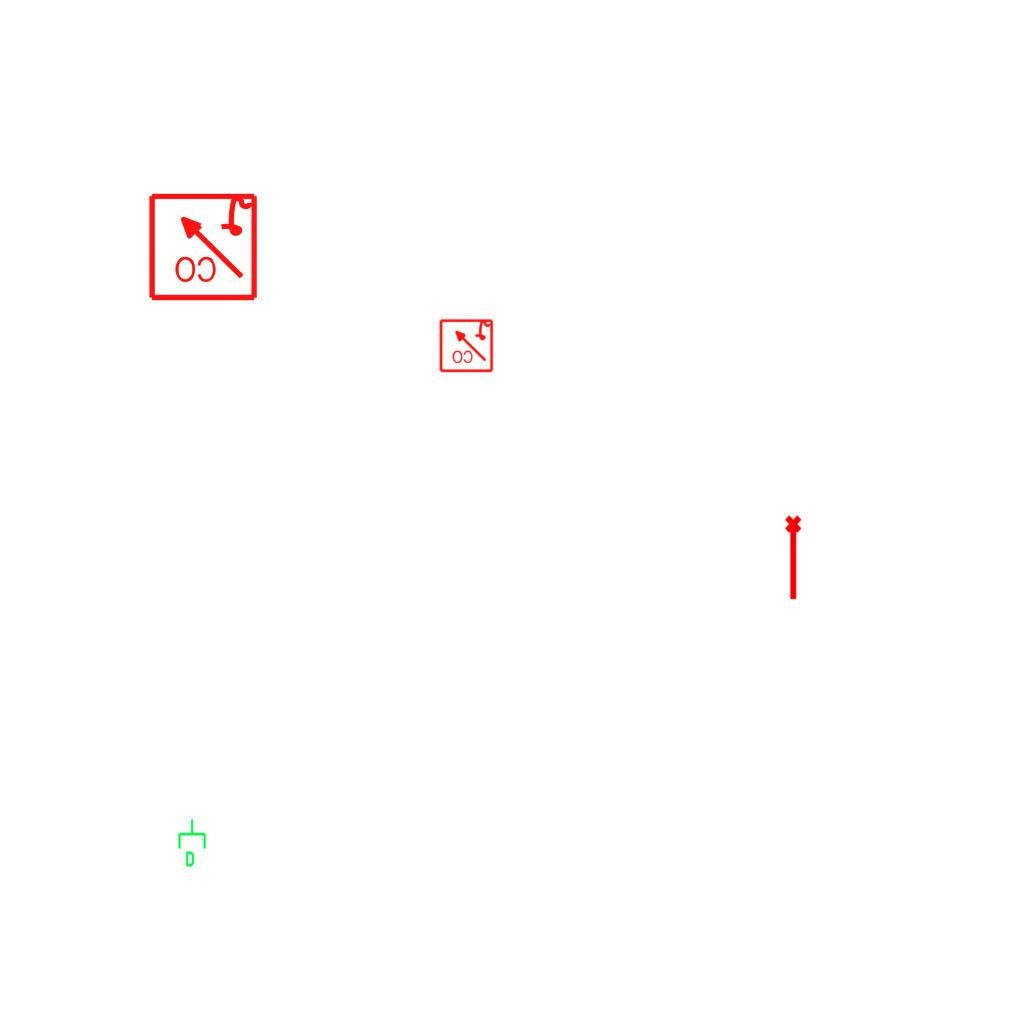ASR_Ansaugoeffnung: (783, 514, 806, 602)
Datenanschluss_einfach: (176, 818, 210, 868)
ROA_Rauchmelder_optisch_mit_Signalgeber_(Sockelsirene): (146, 189, 259, 302), (438, 317, 494, 373)
